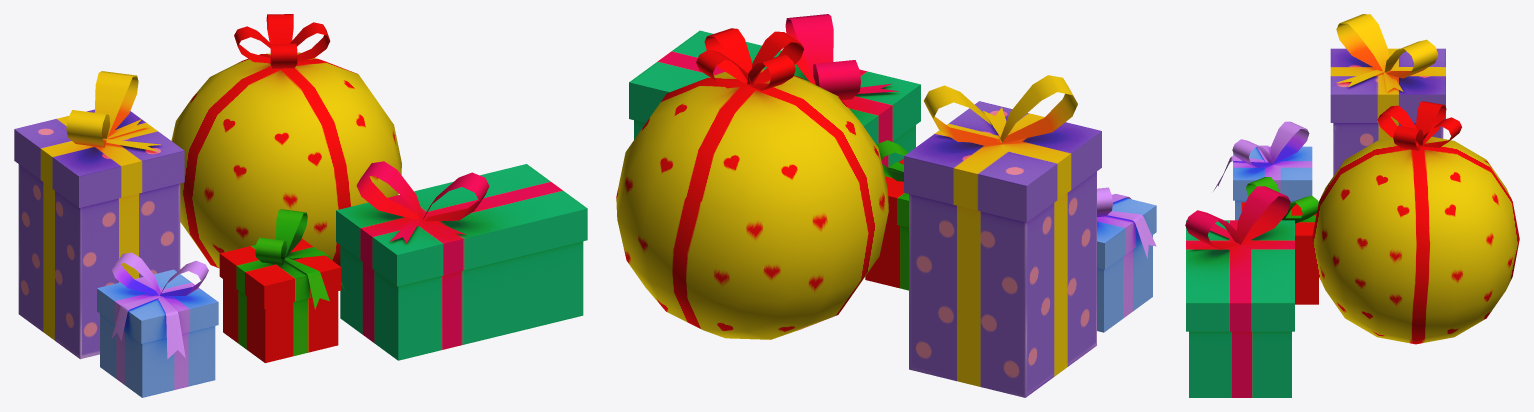
The model's file is gift.fbx.
The picture shows the model from 3 angles, left to right: view 1: azimuth 30°, elevation 25°; view 2: azimuth 150°, elevation 25°; view 3: azimuth 270°, elevation 25°; orthographic projection. The views are drawn at different scales.
Visible parts, largest first — view 1: gift_3, gift_5, gift_4, gift_2, gift_1; view 2: gift_5, gift_4, gift_3, gift_2, gift_1; view 3: gift_5, gift_3, gift_4, gift_2, gift_1.
Boxes of the visible parts, x1,y1,x2,y2 form: gift_3: [336, 161, 587, 360]; gift_5: [171, 14, 401, 268]; gift_4: [14, 71, 184, 359]; gift_2: [97, 252, 218, 397]; gift_1: [219, 209, 344, 362]; gift_5: [616, 28, 888, 339]; gift_4: [904, 75, 1101, 397]; gift_3: [629, 14, 920, 167]; gift_2: [1097, 187, 1156, 332]; gift_1: [865, 140, 908, 290]; gift_5: [1312, 101, 1519, 344]; gift_3: [1185, 186, 1294, 397]; gift_4: [1330, 14, 1445, 175]; gift_2: [1213, 121, 1312, 220]; gift_1: [1241, 177, 1318, 304].
Size of the model in its own units: 12.46 by 6.74 by 9.39.
